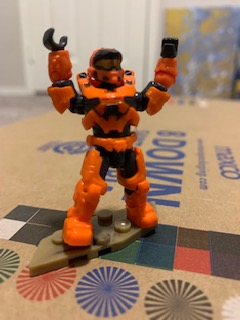spartan: (41, 26, 181, 249)
up: (40, 26, 179, 137)
